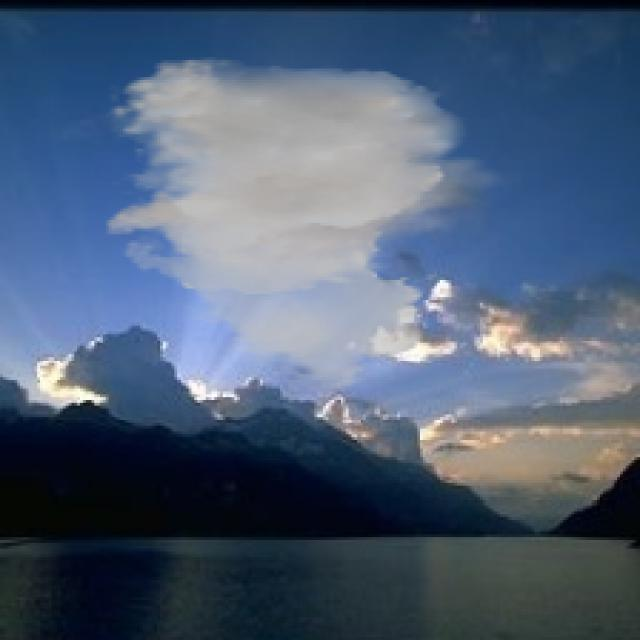smoke: (103, 57, 511, 400)
